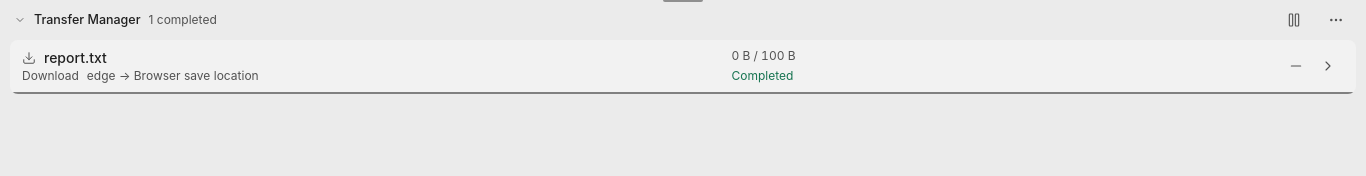
the transfer queue › shows one name for a single transfer and keeps its saved exclusions in the details
Expected: the text "report.txt" is shown once, [44,48,107,68]
Expected: the text "1 exclusion rules" is not shown
Click the button named "Show details for report.txt": {"x": 1328, "y": 66} [1312,50,1344,82]
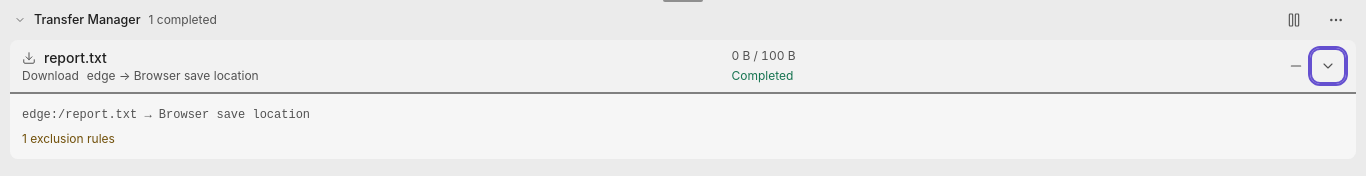
Click the button named "Hide details for report.txt": {"x": 1328, "y": 66} [1312,50,1344,82]
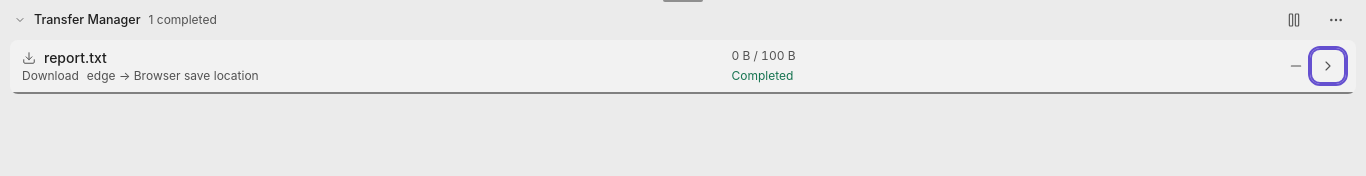
Expected: the text "Completed" is shown, [732,68,793,84]
Expected: the text "1 exclusion rules" is gone
